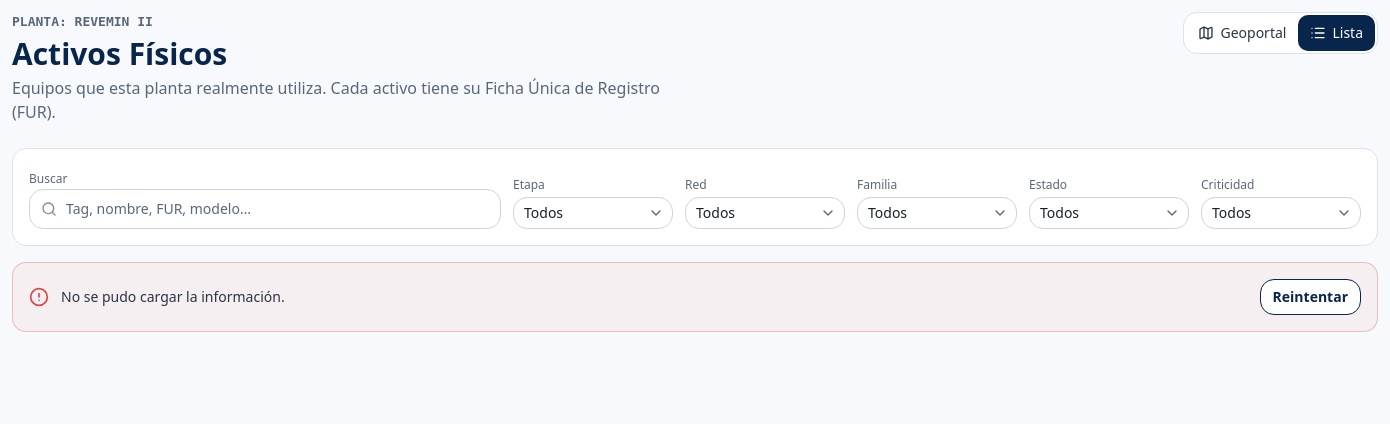
Activos Físicos (listado) › estados vacíos y de error › error del servidor: alerta con reintentar
The image size is (1390, 424).
Expected: the message shows "No se pudo cargar", [61,286,285,306]
Click the button "Reintentar" at (1310, 296), box [1260,278,1361,314]
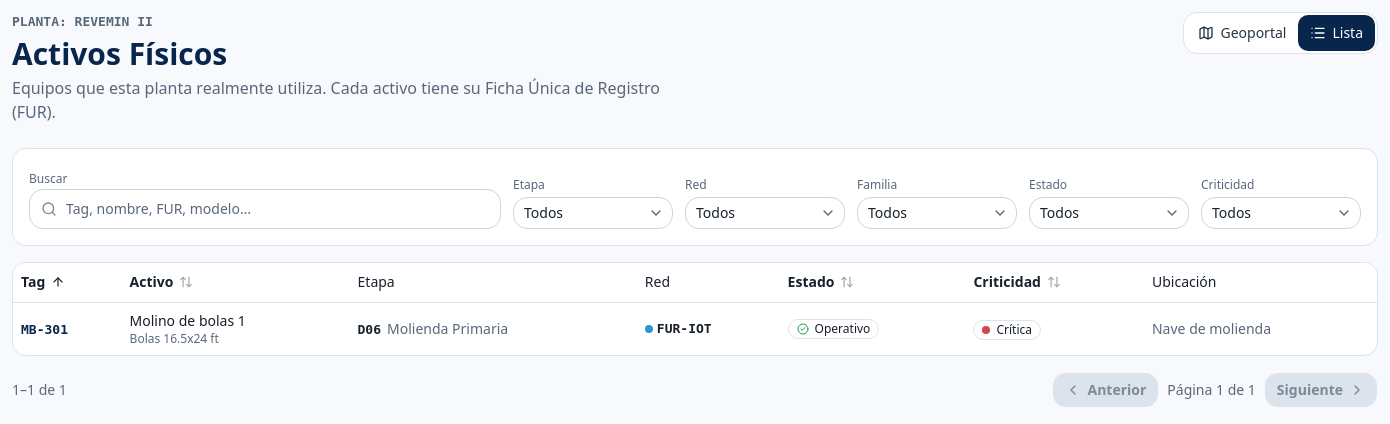
Expected: the link "MB-301" is shown, [21,322,68,337]
